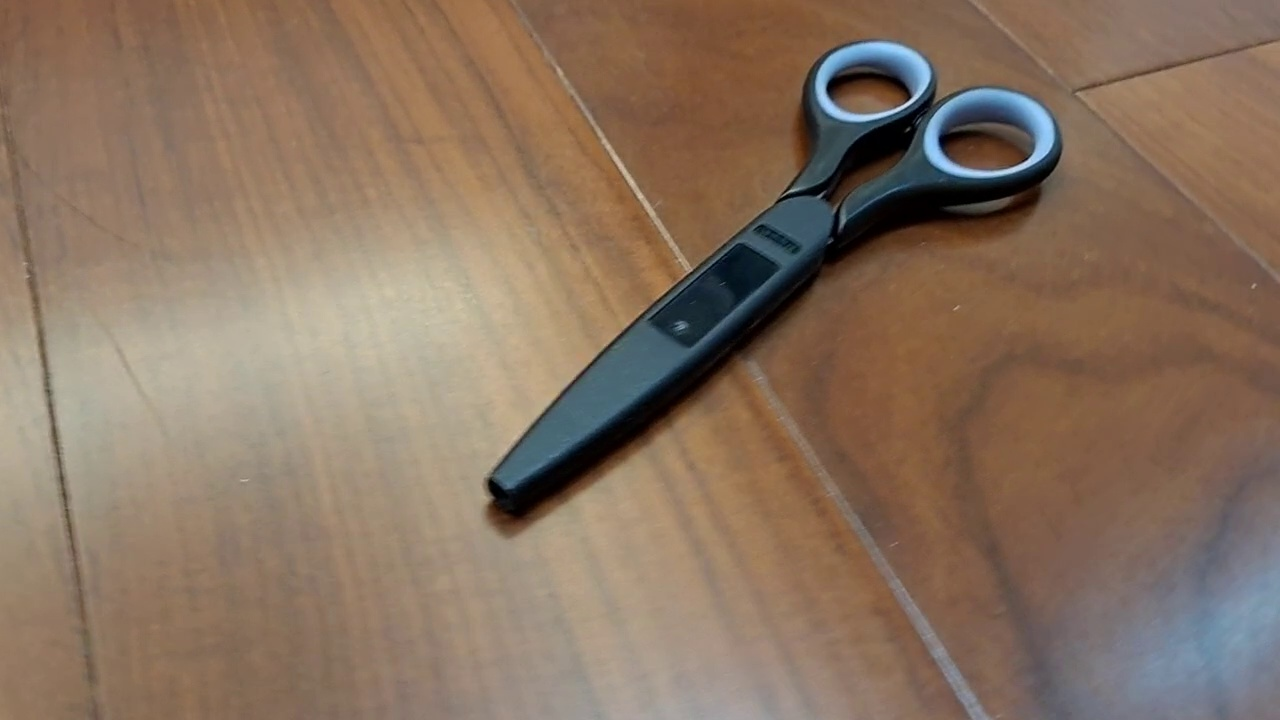scissors: (481, 38, 1063, 521)
